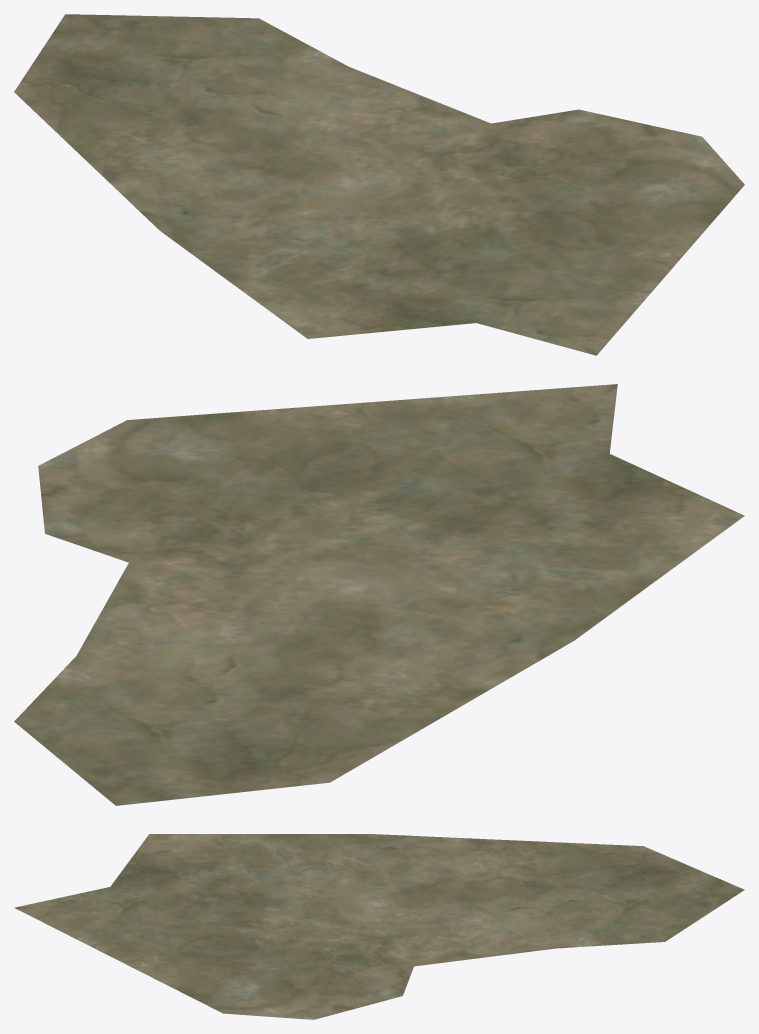
File: OVERHILL_A_01_GROUND24.fbx
3 views of the same model, one above another, from view 1: azimuth 30°, elevation 25°; view 2: azimuth 150°, elevation 25°; view 3: azimuth 270°, elevation 25° (orthographic). The views are drawn at different scales.
Parts seen in each view (by area): view 1: OVERHILL_A_01_GROUND24; view 2: OVERHILL_A_01_GROUND24; view 3: OVERHILL_A_01_GROUND24.
Part boxes in pixels (x1,y1,x2,y2): OVERHILL_A_01_GROUND24: [14, 14, 744, 355]; OVERHILL_A_01_GROUND24: [14, 384, 744, 805]; OVERHILL_A_01_GROUND24: [14, 834, 744, 1019].
Size of the model in its own units: 17543 by 0.00475 by 29160.
1 material, 1 textured.
